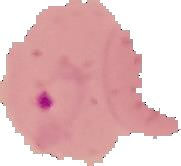parasitized: (25, 46, 96, 130)
